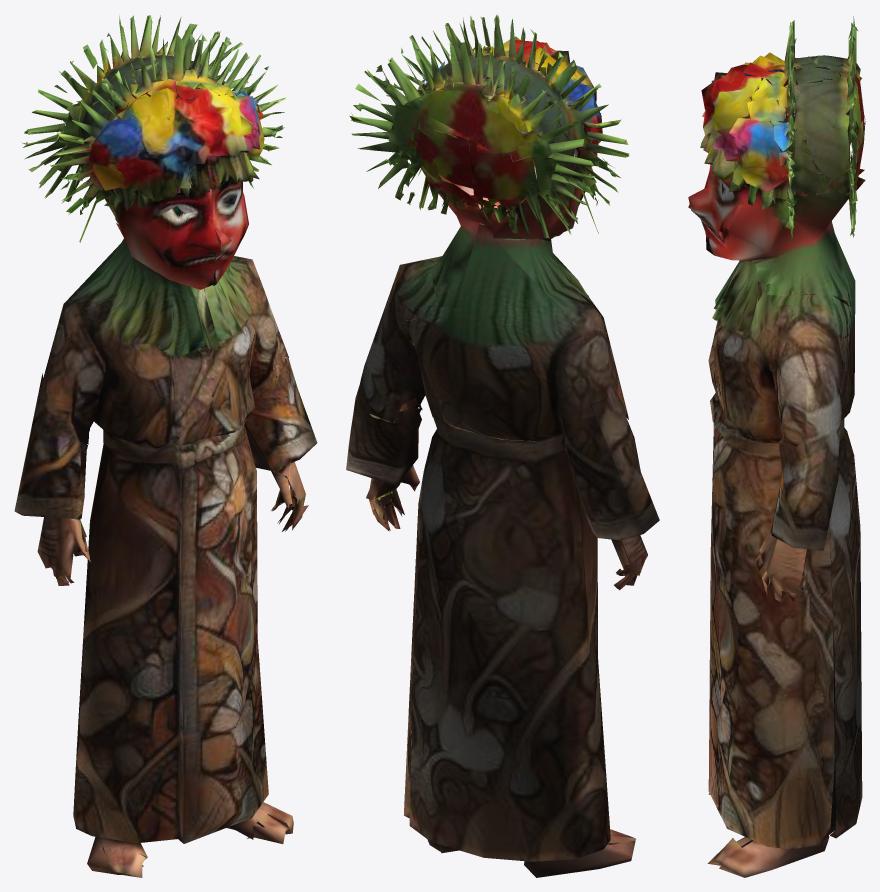
Rendered from ondel-ondel.glb.
3 renders of one model, left to right at view 1: azimuth 30°, elevation 25°; view 2: azimuth 150°, elevation 25°; view 3: azimuth 270°, elevation 25°, orthographic. The views are drawn at different scales.
Parts seen in each view (by area): view 1: model; view 2: model; view 3: model.
Boxes of the visible parts, x1,y1,x2,y2 form: model: [14, 15, 317, 877]; model: [346, 14, 659, 877]; model: [688, 16, 865, 877].
Bounding box in the file's own units: 0.3843 × 1 × 0.1986.
Materials: 1 (1 with a texture image).
